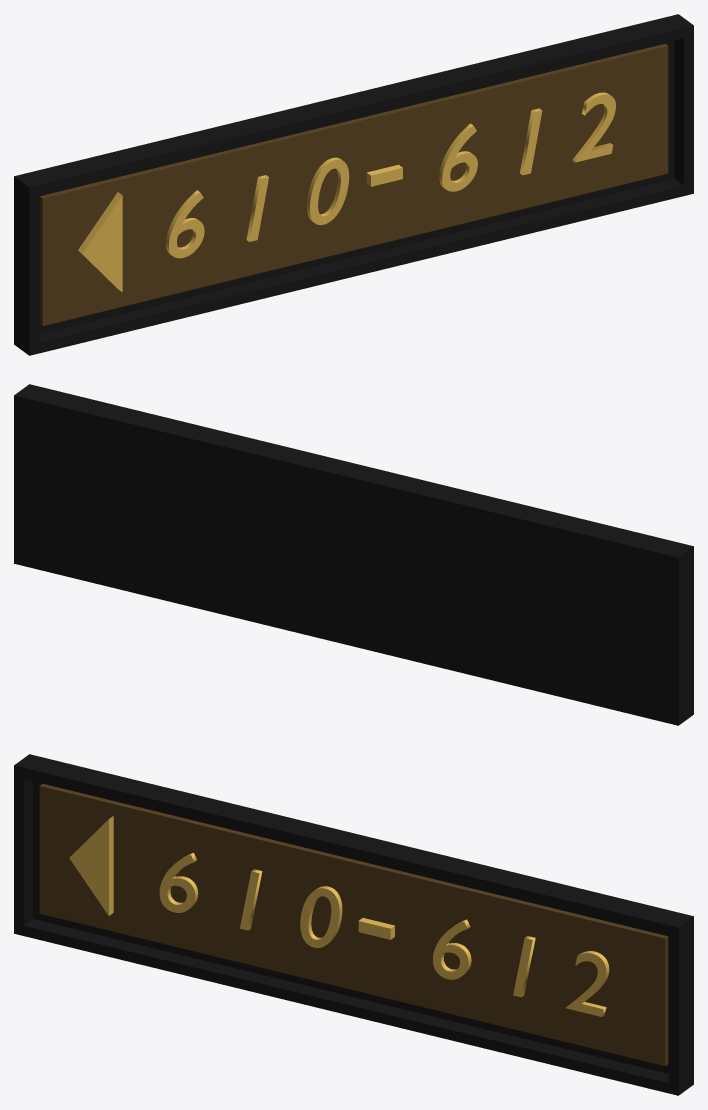
The model's file is Sign610_612.fbx.
3 renders of one model, top to bottom at view 1: azimuth 30°, elevation 25°; view 2: azimuth 150°, elevation 25°; view 3: azimuth 330°, elevation 25°, orthographic.
Parts seen in each view (by area): view 1: sign610_612; view 2: sign610_612; view 3: sign610_612.
Part boxes in pixels (<box>): sign610_612: <box>14,14,693,355</box>; sign610_612: <box>14,384,693,725</box>; sign610_612: <box>14,754,693,1095</box>.
Size of the model in its own units: 124 by 30 by 5.
